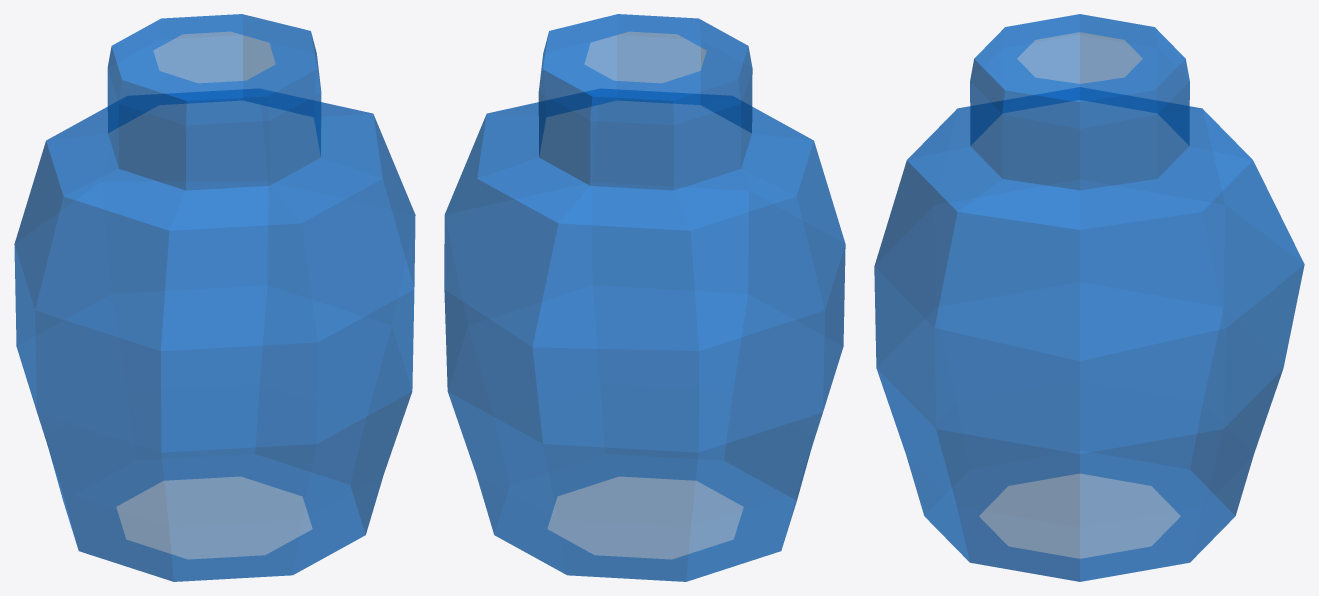
File: Poscion.fbx
The picture shows the model from 3 angles, left to right: view 1: azimuth 30°, elevation 25°; view 2: azimuth 150°, elevation 25°; view 3: azimuth 270°, elevation 25°; orthographic projection.
Parts seen in each view (by area): view 1: Cylinder; view 2: Cylinder; view 3: Cylinder.
Part boxes in pixels (<box>): Cylinder: <box>14,14,415,581</box>; Cylinder: <box>444,14,845,581</box>; Cylinder: <box>874,14,1304,581</box>.
Size of the model in its own units: 208 by 242 by 205.
